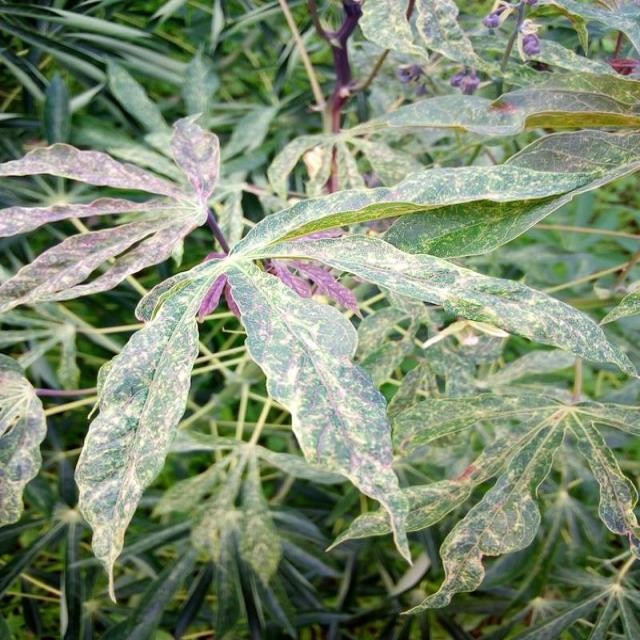cassava leaf: (1, 2, 638, 629), (222, 254, 413, 565)
